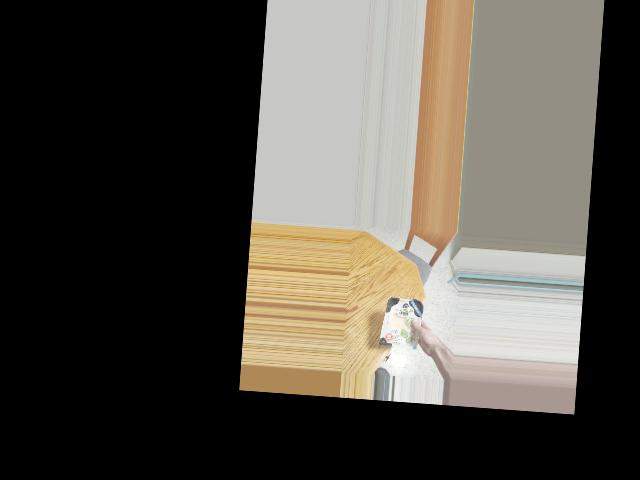cheese: (384, 290, 427, 359)
